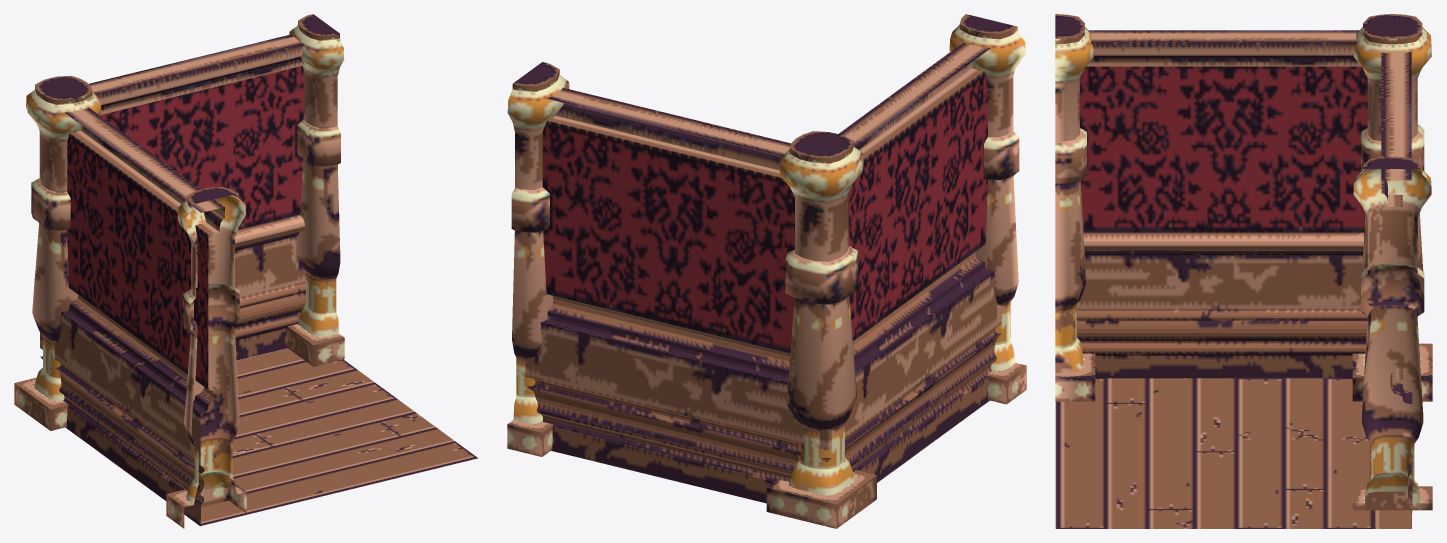
Rendered from tile_corner_L_top.fbx.
The picture shows the model from 3 angles, left to right: view 1: azimuth 30°, elevation 25°; view 2: azimuth 150°, elevation 25°; view 3: azimuth 270°, elevation 25°; orthographic projection. The views are drawn at different scales.
Parts seen in each view (by area): view 1: tile_corner_L_top; view 2: tile_corner_L_top; view 3: tile_corner_L_top.
Boxes of the visible parts, left/top/right/bottom form: tile_corner_L_top: left=14, top=14, right=477, bottom=528; tile_corner_L_top: left=507, top=14, right=1026, bottom=528; tile_corner_L_top: left=1055, top=14, right=1432, bottom=528.
Size of what is drawn, in the model's own units: 190 by 200 by 190.
